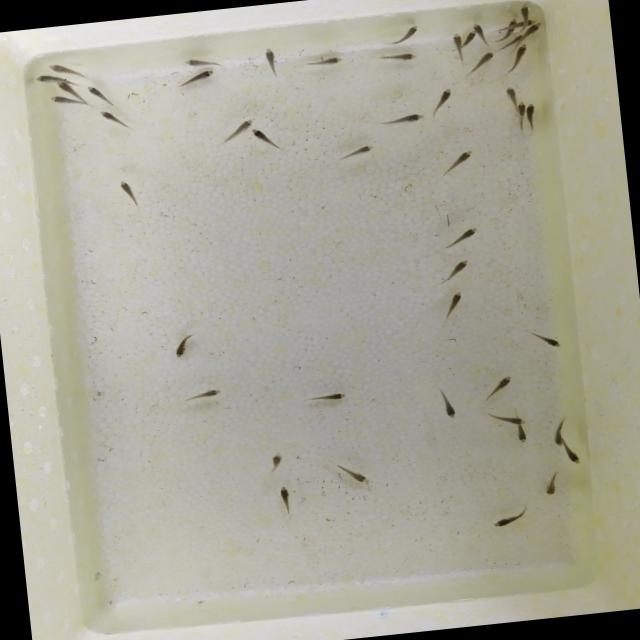fingerling: (34, 57, 82, 80), (340, 464, 379, 490), (224, 114, 259, 141), (442, 252, 472, 282), (180, 385, 234, 400), (558, 443, 586, 471), (256, 46, 286, 72), (370, 50, 425, 64), (498, 82, 524, 110), (508, 41, 536, 67), (386, 110, 426, 128), (488, 510, 520, 532), (182, 69, 224, 85), (512, 94, 532, 127), (447, 226, 483, 244), (540, 329, 563, 357), (85, 80, 108, 108), (430, 86, 456, 110), (487, 372, 518, 392), (345, 142, 381, 158), (537, 478, 563, 500), (442, 288, 468, 310), (454, 144, 474, 172), (168, 340, 192, 363), (267, 443, 286, 472), (115, 174, 134, 203), (274, 482, 295, 508), (497, 412, 531, 428), (183, 56, 220, 70), (49, 80, 81, 96), (508, 428, 536, 446), (318, 389, 350, 404), (300, 56, 346, 66), (442, 395, 460, 420), (34, 72, 62, 88), (400, 22, 422, 42), (42, 93, 78, 105), (524, 98, 538, 128), (474, 50, 497, 68), (516, 2, 536, 22), (98, 106, 119, 125), (248, 128, 270, 146), (548, 428, 566, 447), (516, 16, 541, 28), (448, 33, 464, 50), (472, 20, 486, 39), (524, 24, 542, 38), (466, 28, 476, 46), (507, 18, 518, 30), (510, 36, 524, 42)
